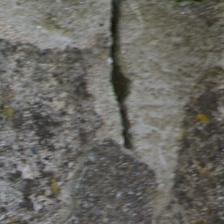Crack: (51, 3, 92, 152)
